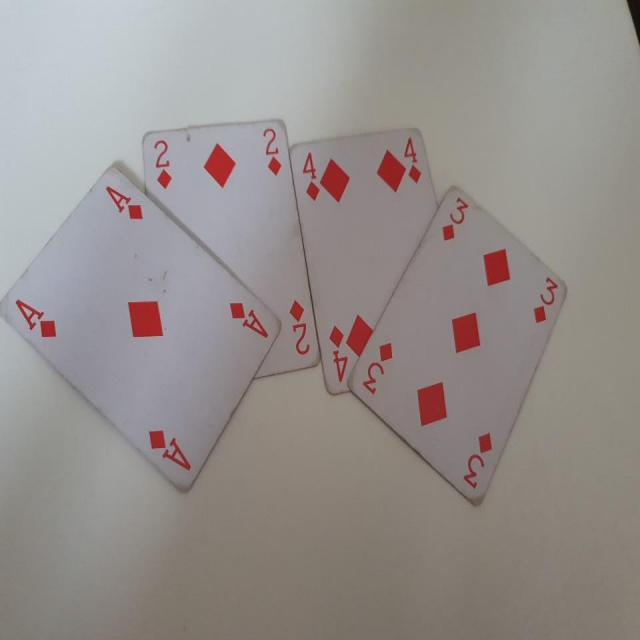2 Diamonds: (139, 113, 320, 382)
3 Diamonds: (341, 183, 567, 512)
4 Diamonds: (291, 126, 445, 398)
A Diamonds: (4, 157, 281, 508)
